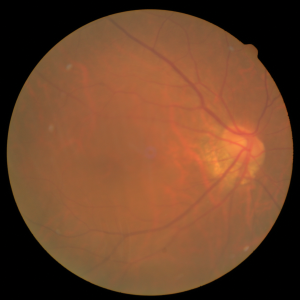cataract: (87, 96, 273, 210)
